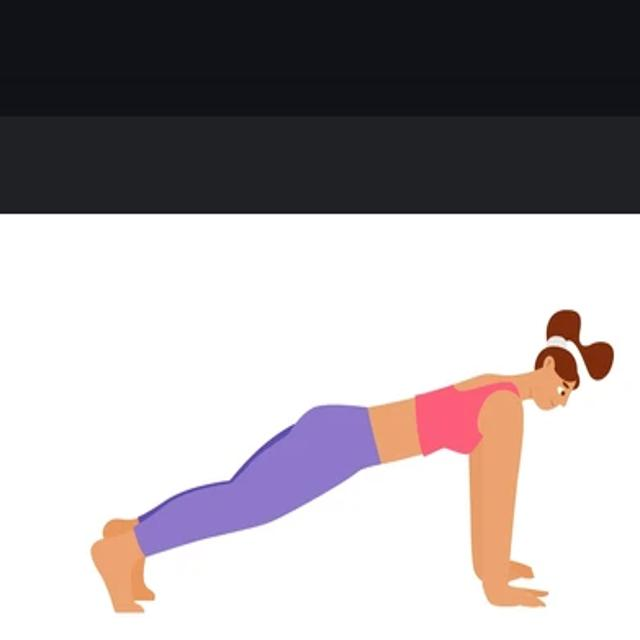Plank_Pose: (89, 308, 616, 623)
